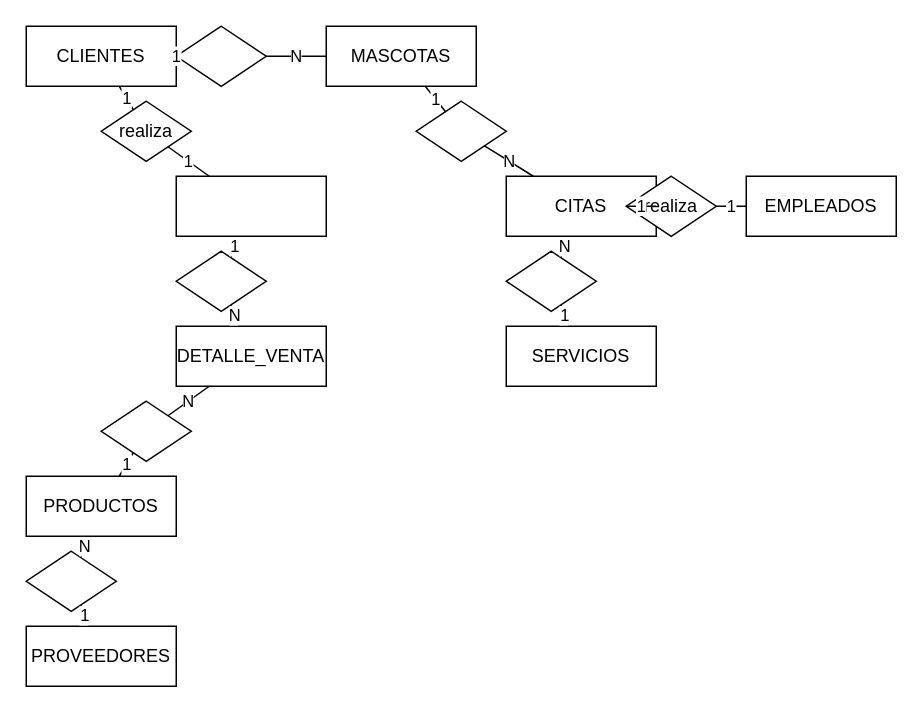
The diagram is 923 pixels wide and 713 high, and some of its shapes have lost their labels. The centre of each missing label's shape, as x and y in pixels:
"compone" belongs at [145,430].
"recibe" belongs at [460,130].
"se programa" belongs at [550,280].
"tiene" belongs at [220,55].
"VENTAS" belongs at [250,205].
